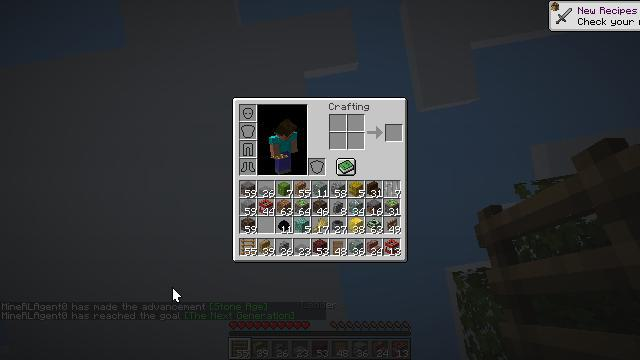cursor: (172, 287, 182, 303)
